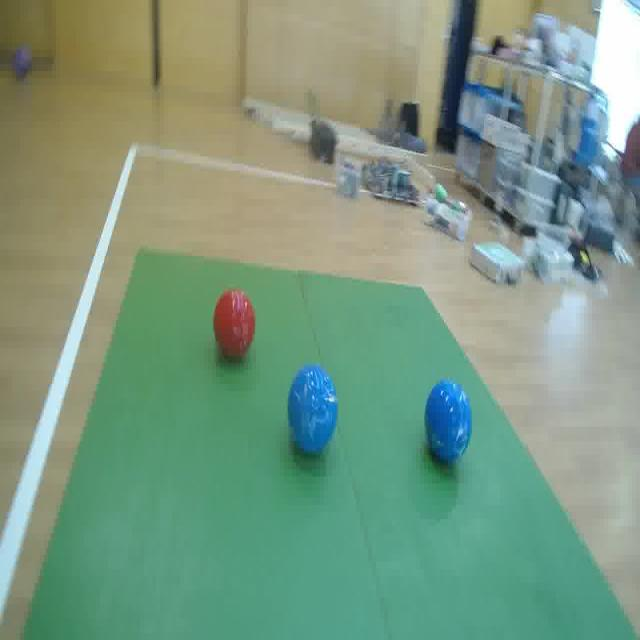blue_ball: (286, 360, 340, 460), (422, 373, 472, 468)
purple_ball: (15, 49, 30, 81)
red_ball: (210, 287, 258, 362)
